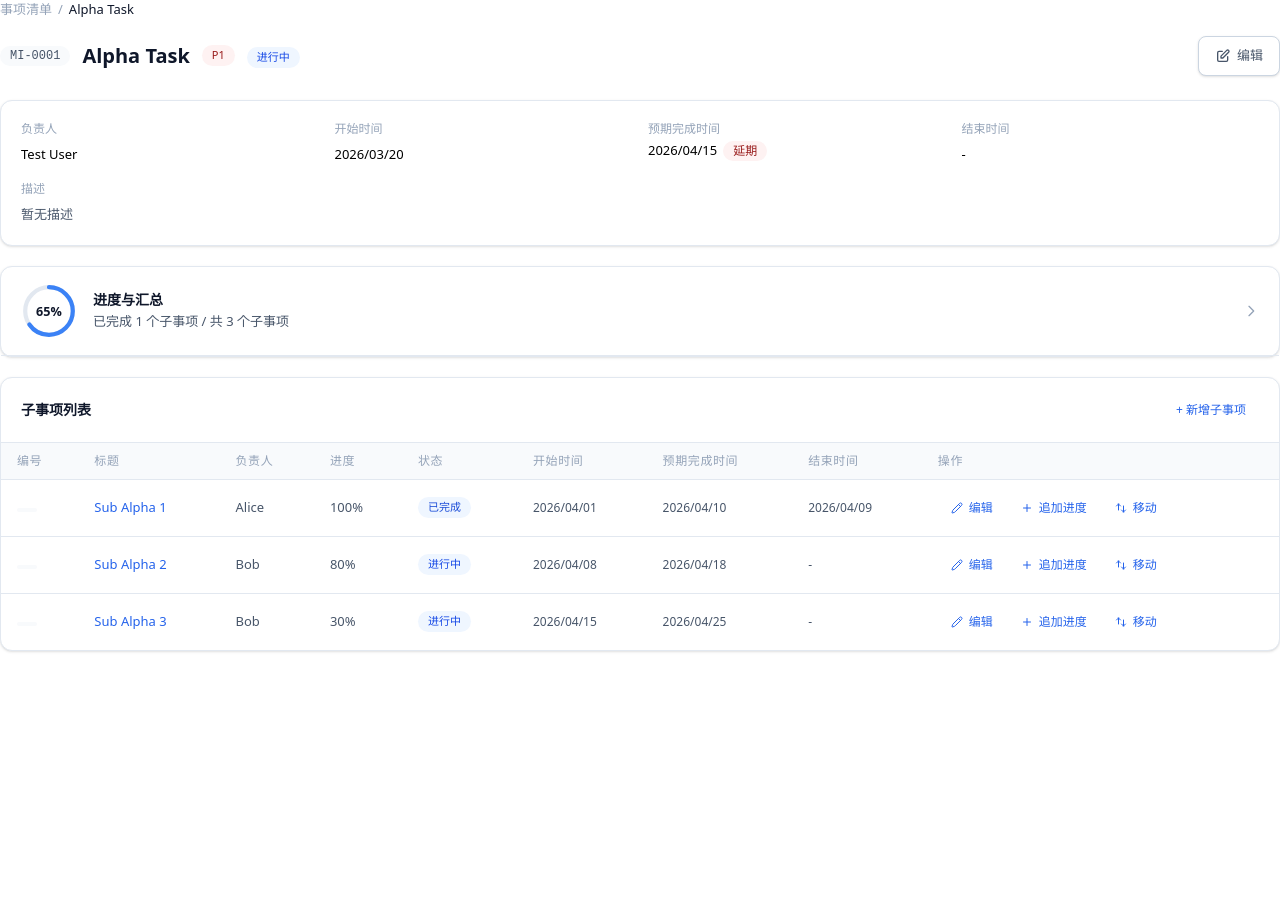
Test: MainItemDetailPage › opens create sub-item dialog
Expected: the heading "Alpha Task" is shown, [82,42,190,70]
Note: Find the "+ 新增子事项" button
Click the button "+ 新增子事项".
click(1211, 410)  # box [1163,394,1259,426]
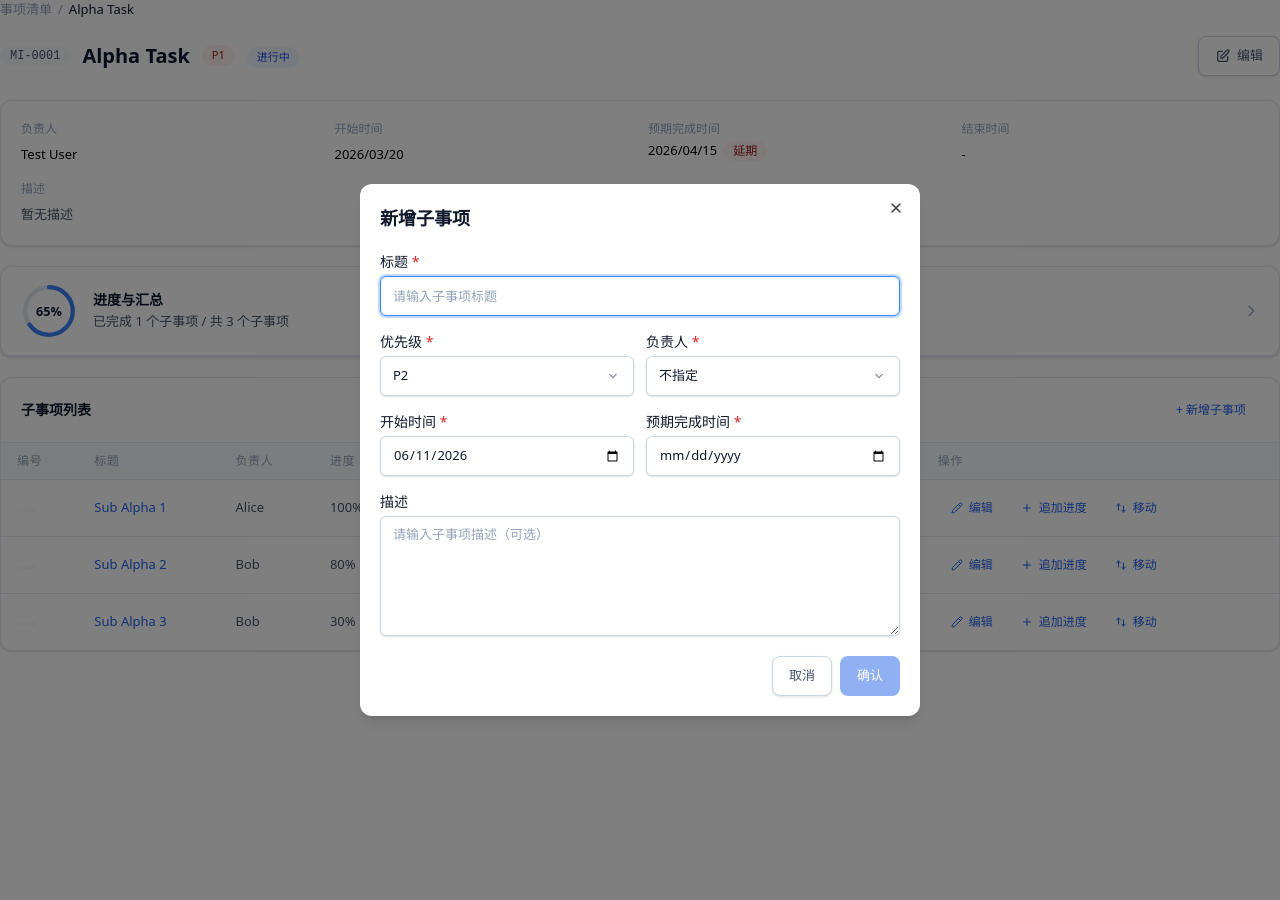
Expected: the heading "新增子事项" is shown, [380,206,470,230]
